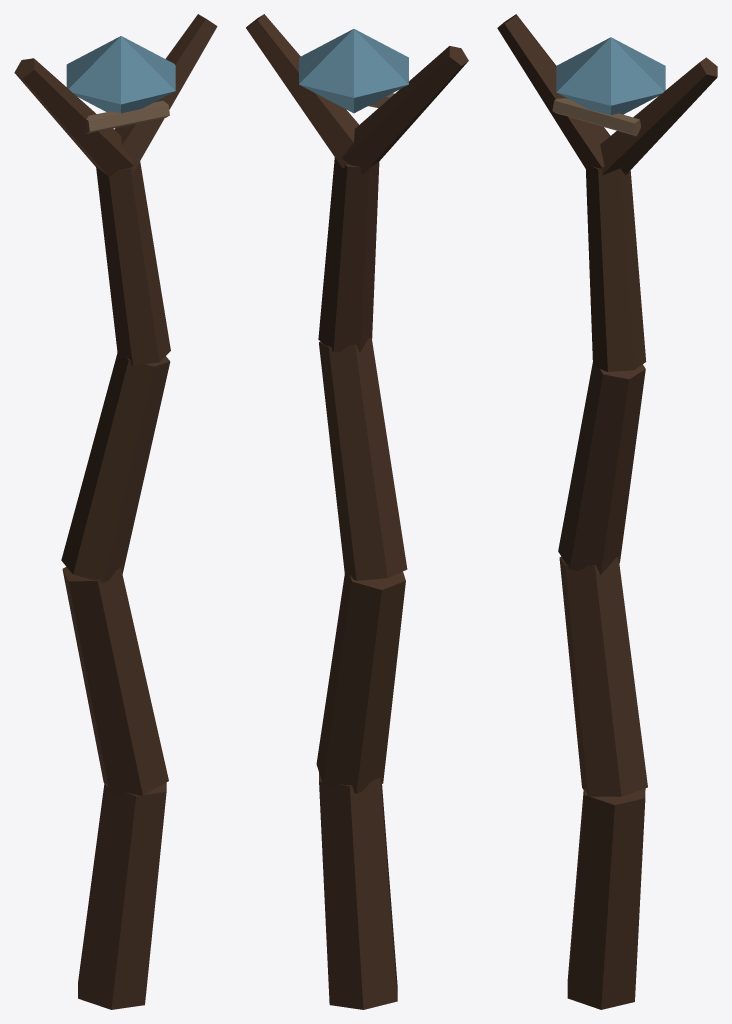
File: hazel_wand.obj
The picture shows the model from 3 angles, left to right: view 1: azimuth 30°, elevation 25°; view 2: azimuth 150°, elevation 25°; view 3: azimuth 330°, elevation 25°; orthographic projection.
Parts seen in each view (by area): view 1: hazel_wand; view 2: hazel_wand; view 3: hazel_wand.
Part boxes in pixels (x1,y1,x2,y2): hazel_wand: [14, 14, 217, 1009]; hazel_wand: [246, 14, 468, 1009]; hazel_wand: [497, 14, 717, 1009].
Size of the model in its own units: 0.6478 by 2.86 by 0.2944.
